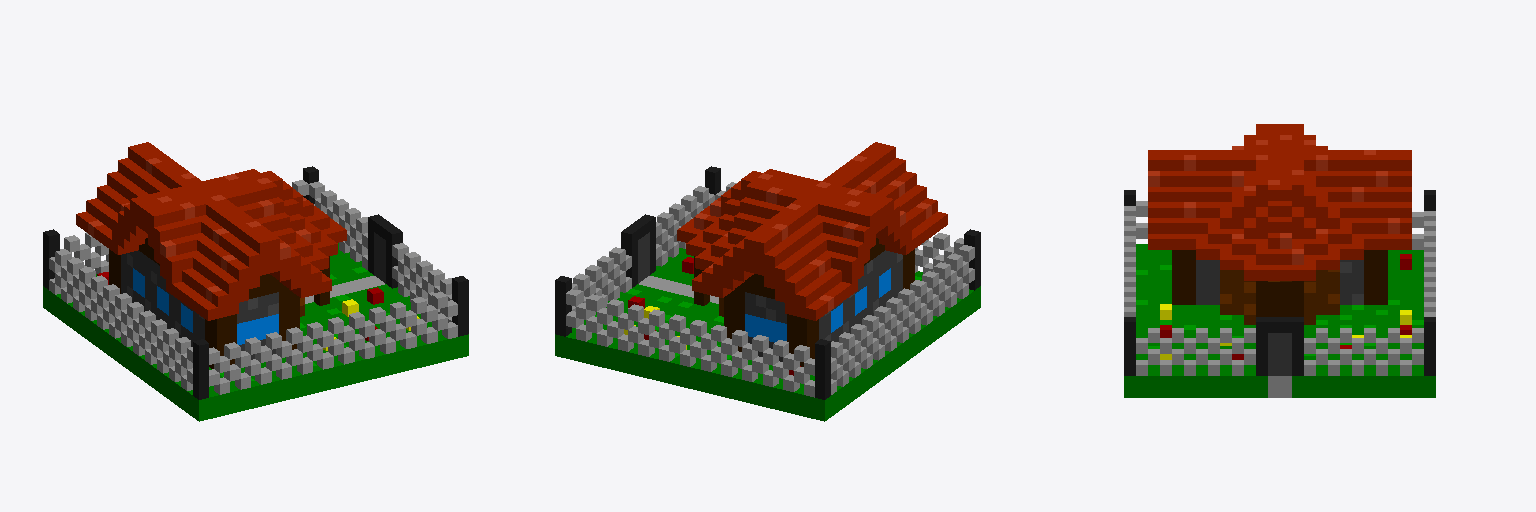
The picture shows the model from 3 angles: view 1: azimuth 30°, elevation 25°; view 2: azimuth 150°, elevation 25°; view 3: azimuth 270°, elevation 25°; orthographic projection.
Visible parts, largest first — view 1: object 1; view 2: object 1; view 3: object 1.
Part boxes in pixels (bbox=[...]): object 1: bbox=[43, 142, 468, 421]; object 1: bbox=[555, 142, 980, 421]; object 1: bbox=[1124, 124, 1435, 397].
Size of the model in its own units: 2.6 by 1.4 by 2.6.
Materials: 1 (1 with a texture image).